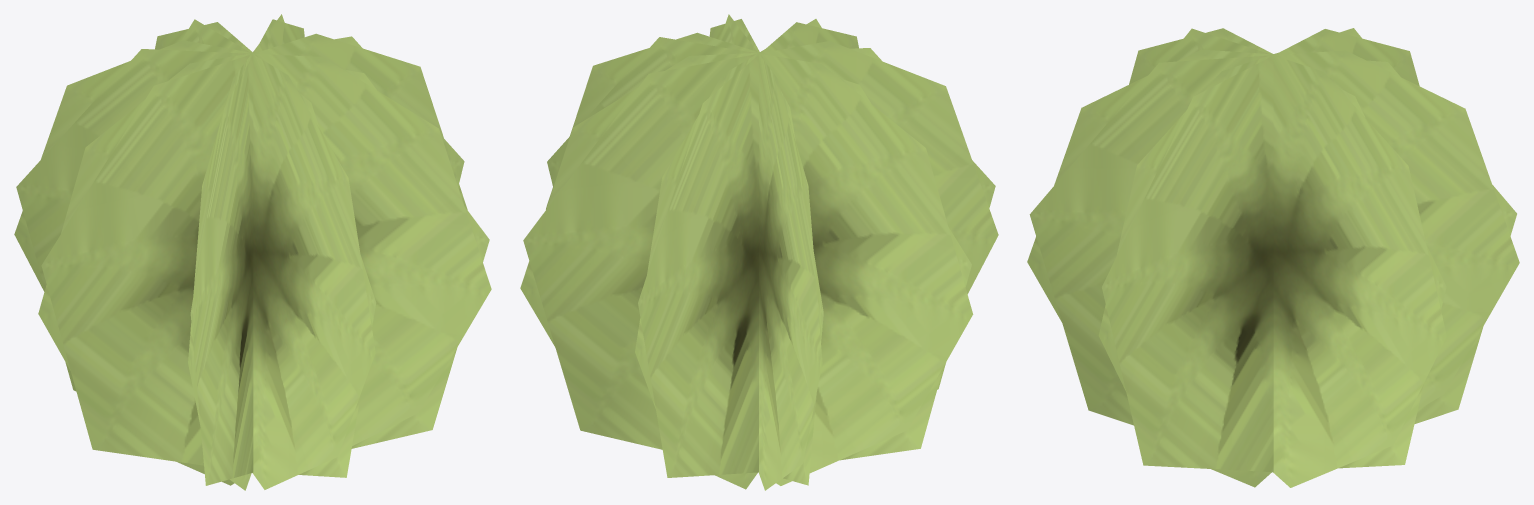
Rendered from painted-weed-024.glb.
3 renders of one model, left to right at view 1: azimuth 30°, elevation 25°; view 2: azimuth 150°, elevation 25°; view 3: azimuth 270°, elevation 25°, orthographic.
Size of the model in its own units: 10 by 9.64 by 10.
Materials: 1 (1 with a texture image).
